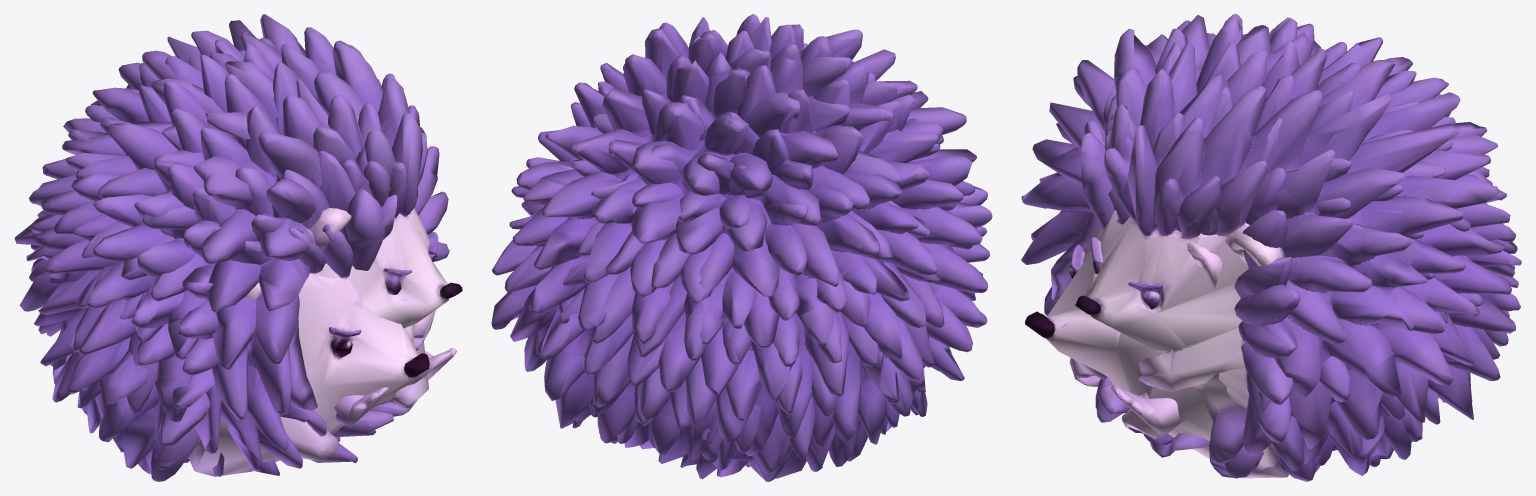
File: urchin.glb
The picture shows the model from 3 angles, left to right: view 1: azimuth 30°, elevation 25°; view 2: azimuth 150°, elevation 25°; view 3: azimuth 270°, elevation 25°; orthographic projection. The views are drawn at different scales.
Parts seen in each view (by area): view 1: item1, item0; view 2: item1, item0; view 3: item1, item0.
Boxes of the visible parts, box(x1,y1,x2,y2) form: item1: box(14, 14, 462, 476); item0: box(29, 37, 449, 481); item1: box(491, 17, 976, 479); item0: box(521, 14, 992, 481); item1: box(1021, 15, 1521, 481); item0: box(1025, 14, 1517, 478).
Bounding box in the file's own units: 2 × 1.86 × 2.
1 material, 1 textured.
